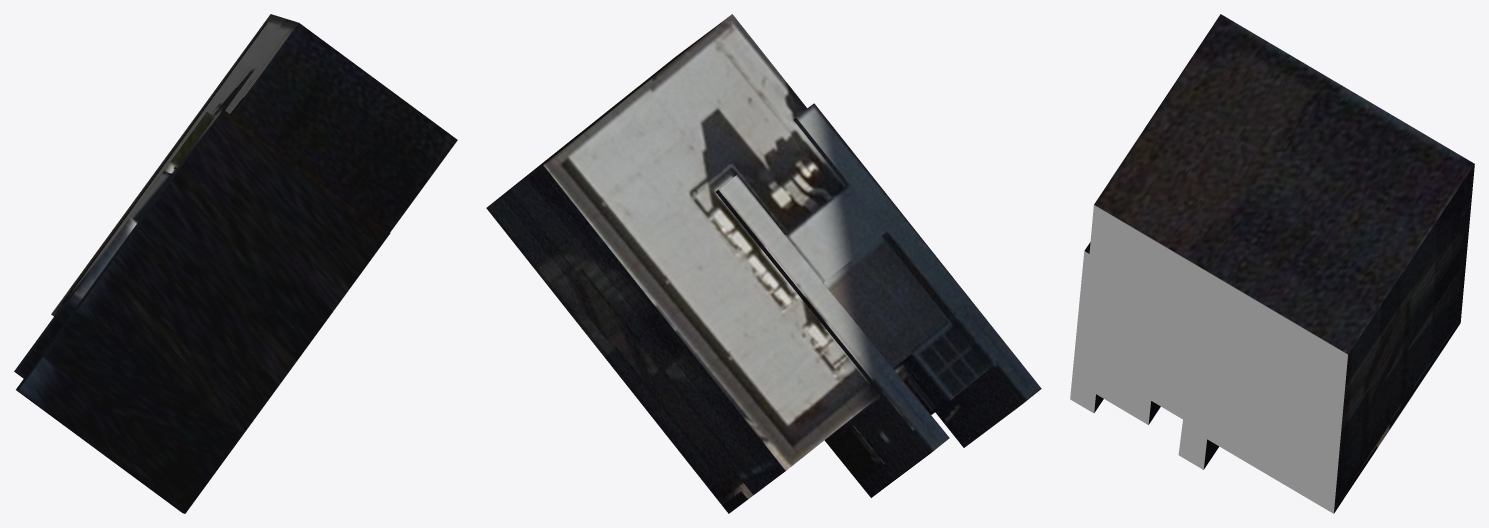
The model's file is 19774_bldg_Building.glb.
3 views of the same model, side by side, from view 1: azimuth 30°, elevation 25°; view 2: azimuth 150°, elevation 25°; view 3: azimuth 270°, elevation 25° (orthographic). The views are drawn at different scales.
Bounding box in the file's own units: 28.22 × 25.01 × 17.3.
Materials: 3 (2 with a texture image).
